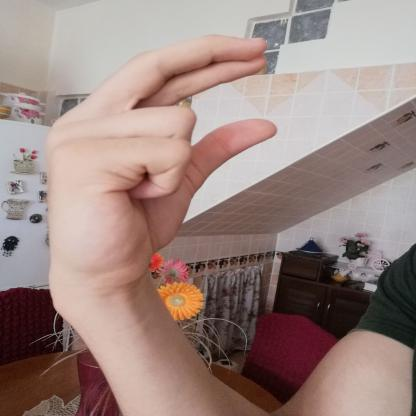DHELL: (33, 25, 288, 298)
